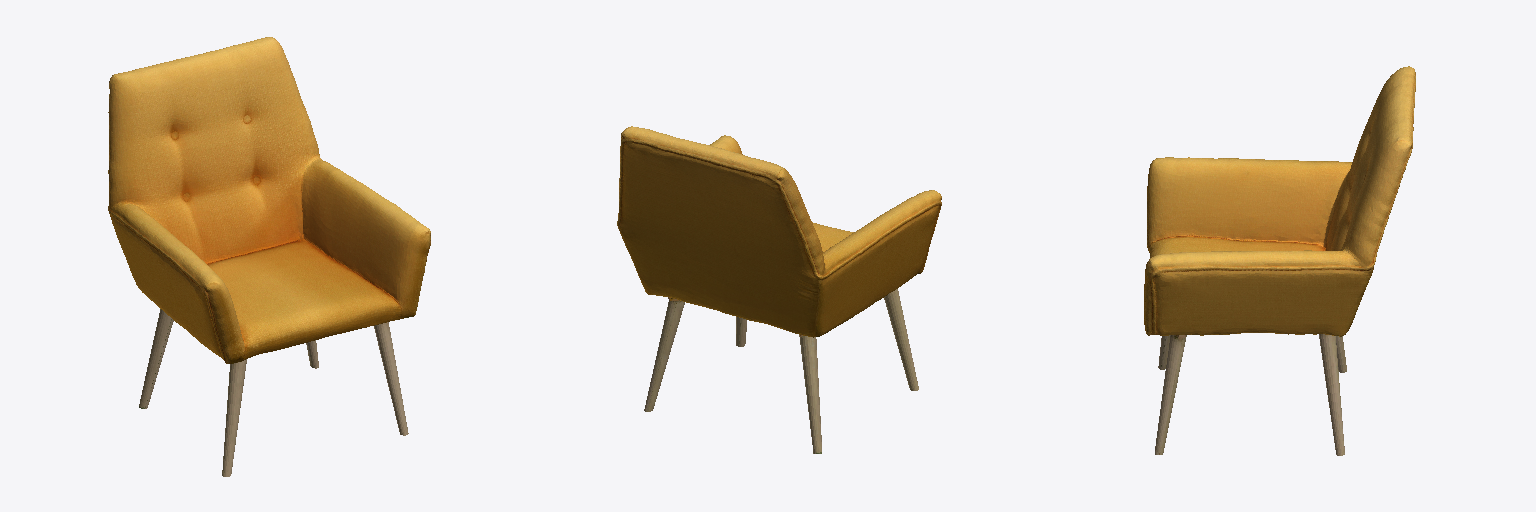
The picture shows the model from 3 angles: view 1: azimuth 30°, elevation 25°; view 2: azimuth 150°, elevation 25°; view 3: azimuth 270°, elevation 25°; orthographic projection.
Size of the model in its own units: 2.53 by 3.32 by 2.65.
Materials: 1 (1 with a texture image).